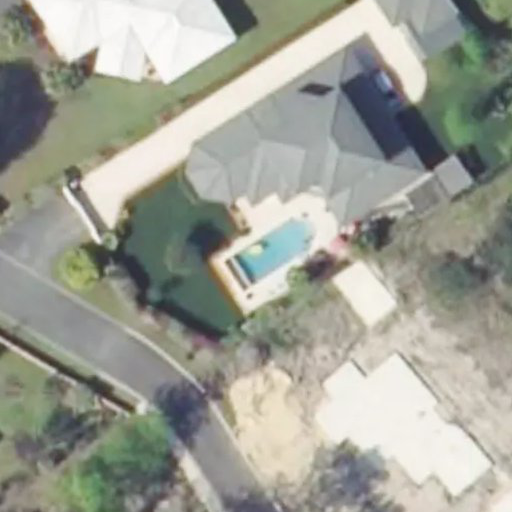pool: (231, 216, 317, 289)
